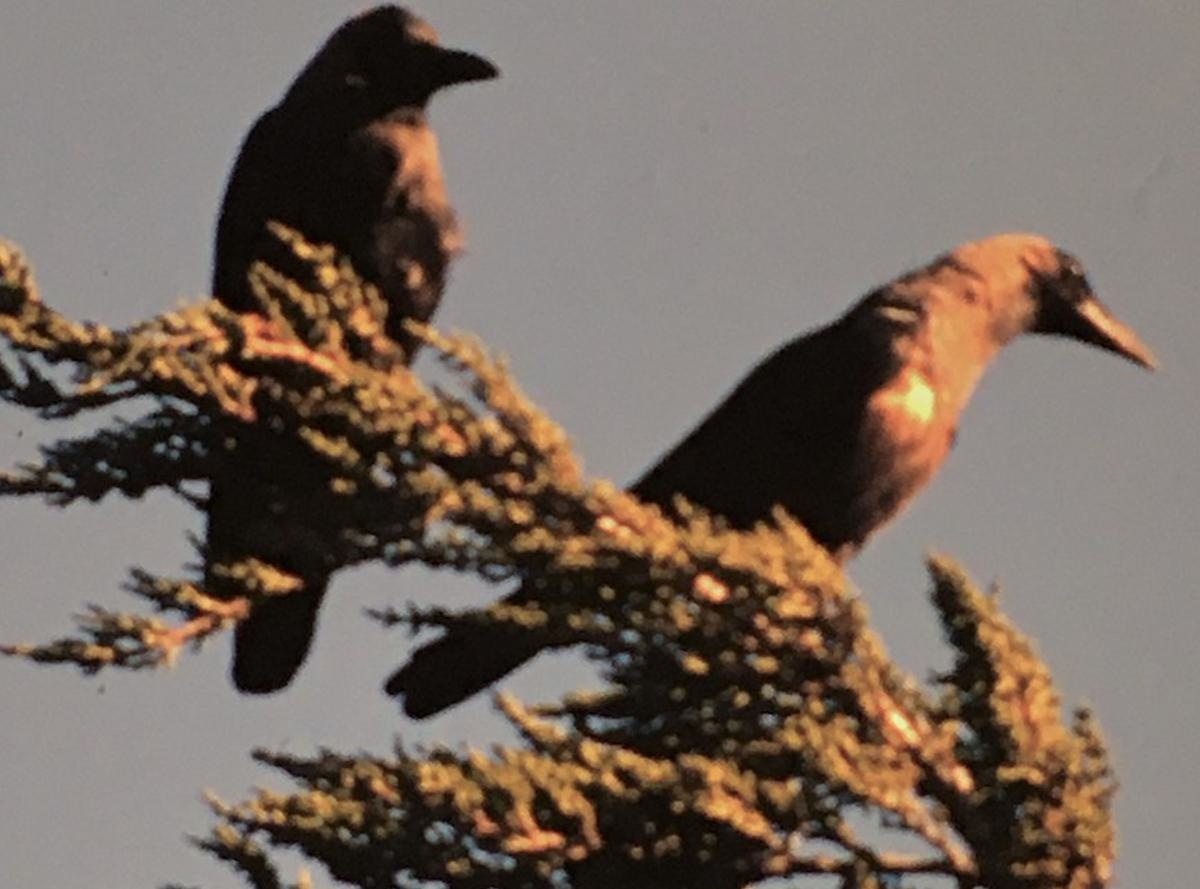crow: (435, 225, 1160, 711), (218, 6, 500, 699)
